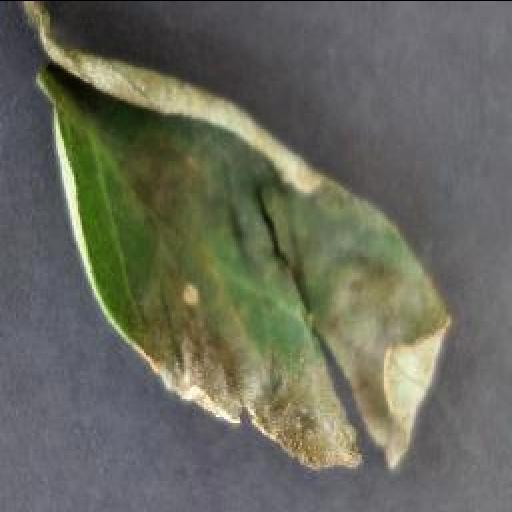disease_tomato: (12, 0, 454, 468)
